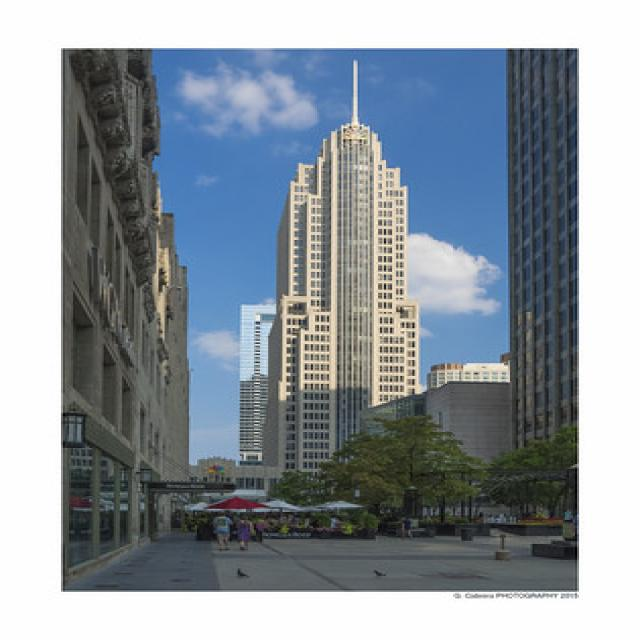building: (232, 116, 422, 474)
